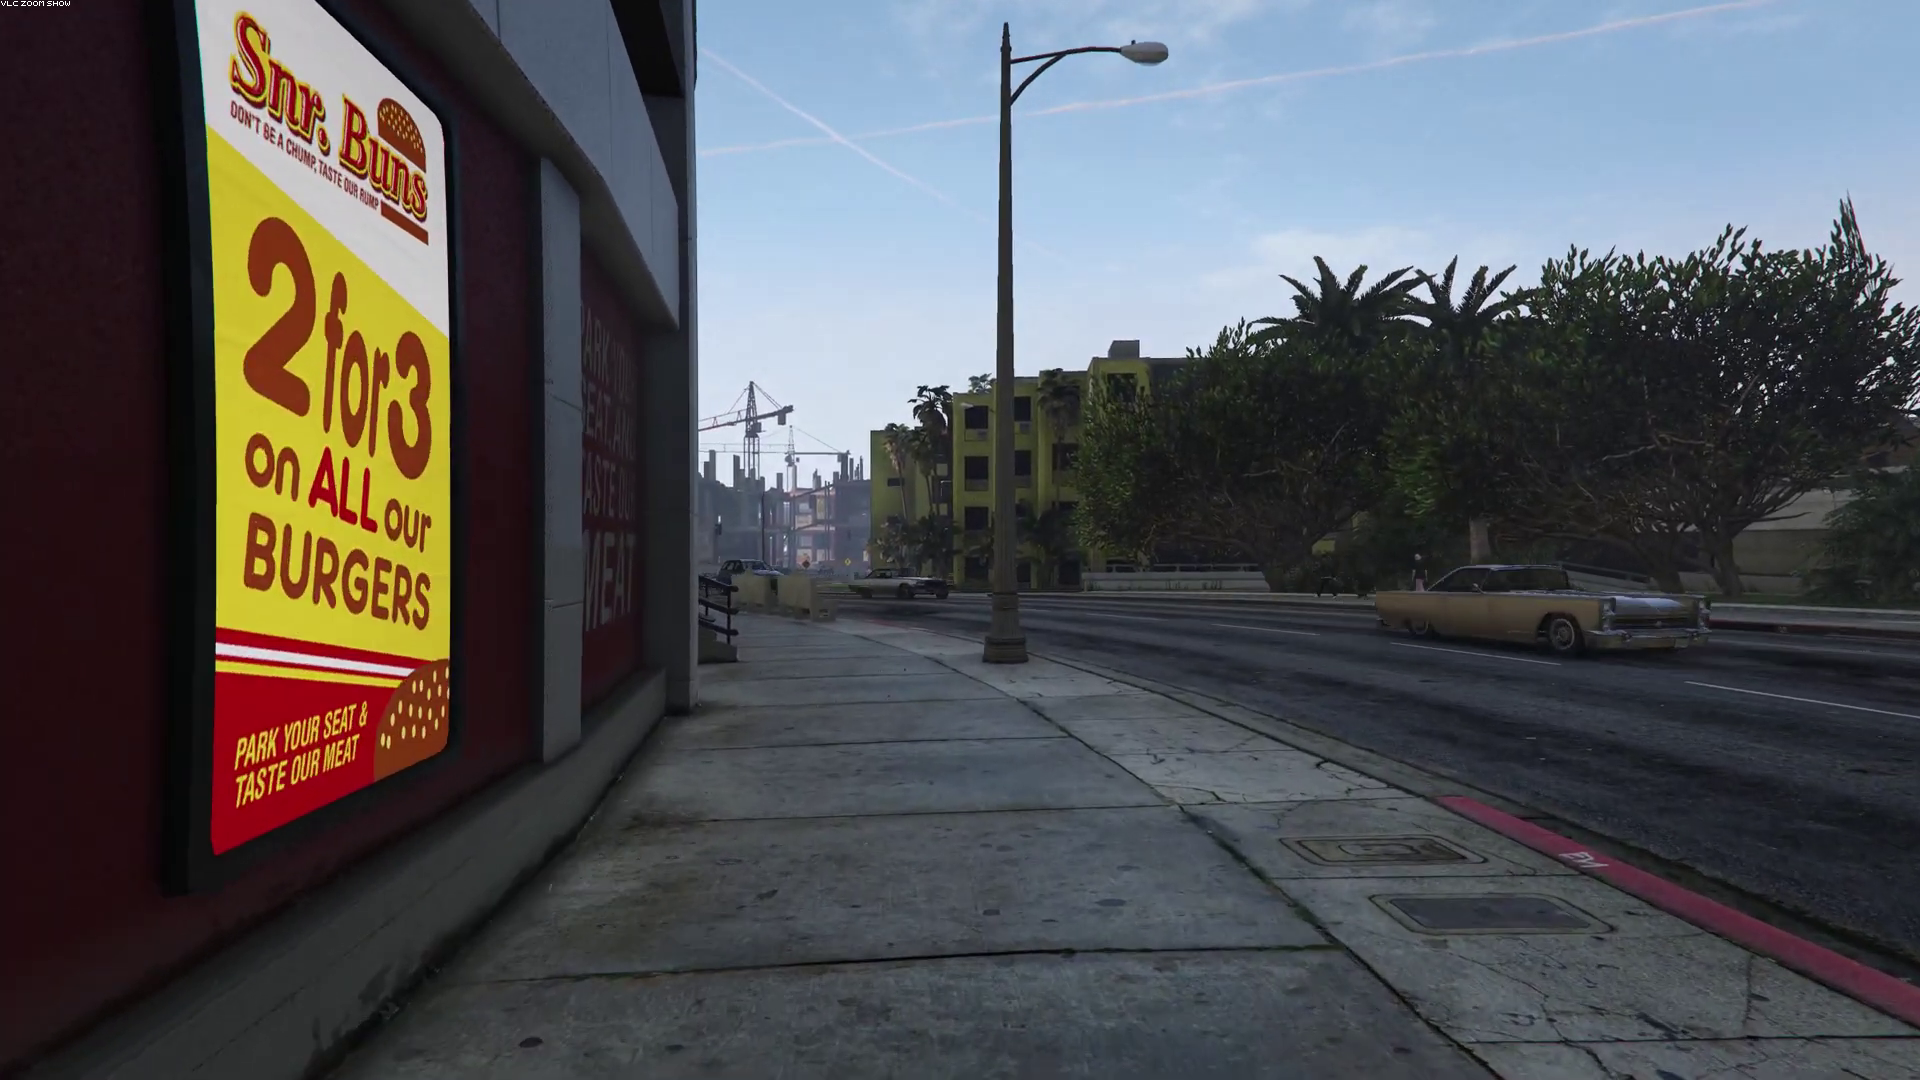car: (1381, 564, 1710, 656), (854, 567, 949, 600), (719, 559, 783, 584)
person: (1410, 554, 1429, 592)
